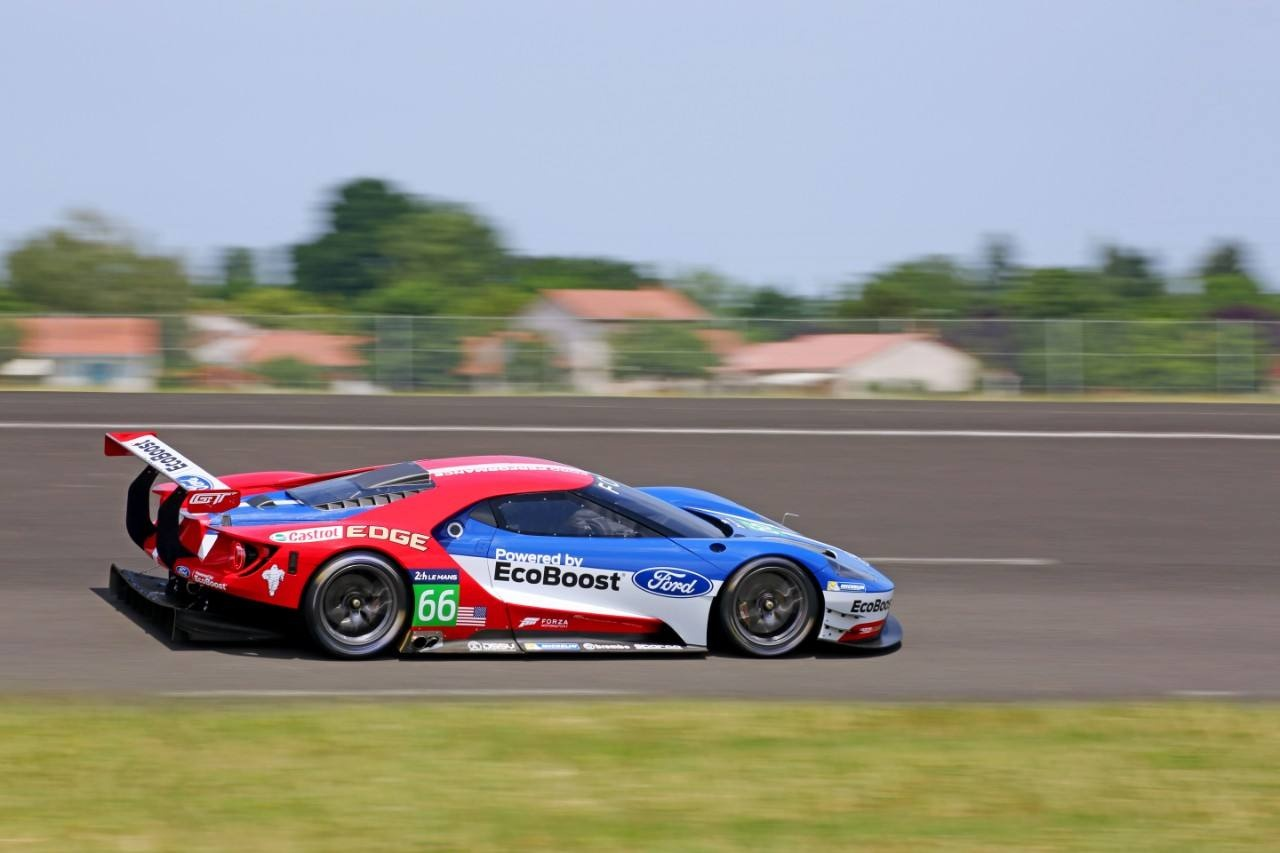racing car: (69, 390, 933, 666)
